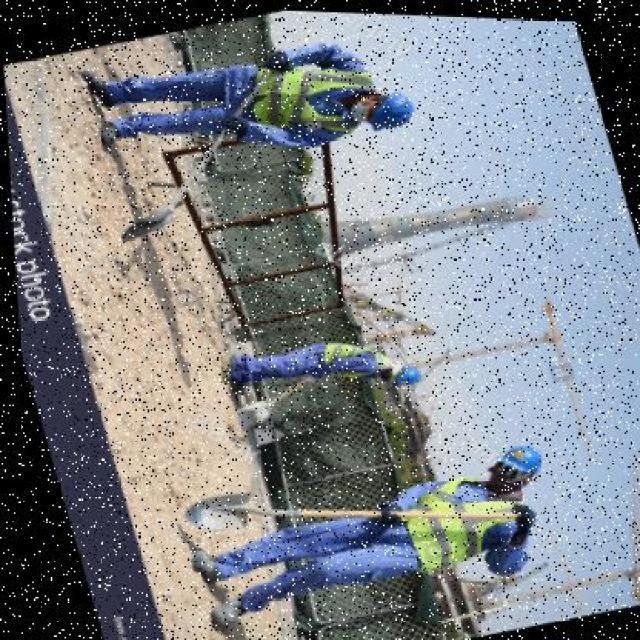helmet: (355, 79, 421, 135), (490, 435, 544, 477)
vest: (386, 475, 512, 569), (231, 57, 361, 137)
